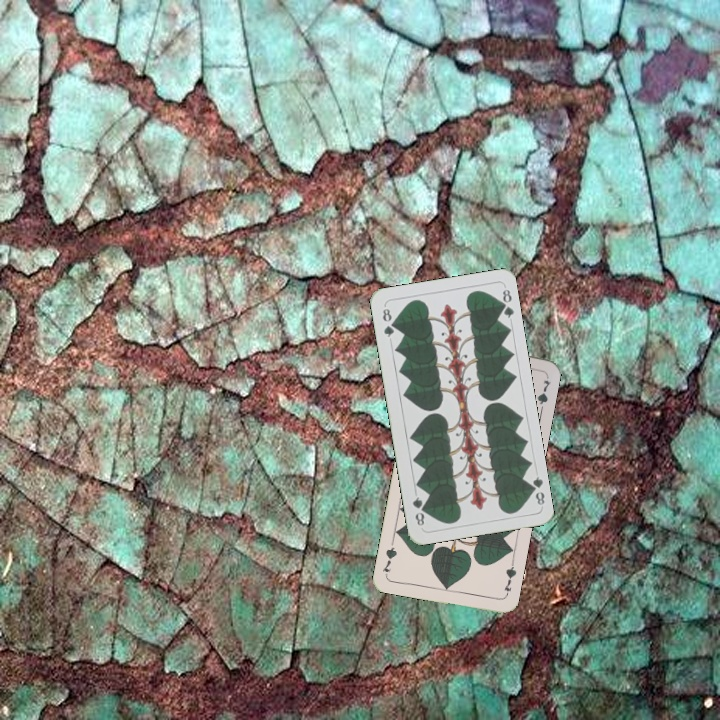G7: (499, 559, 519, 599)
G8: (525, 472, 547, 507), (378, 304, 397, 340)
